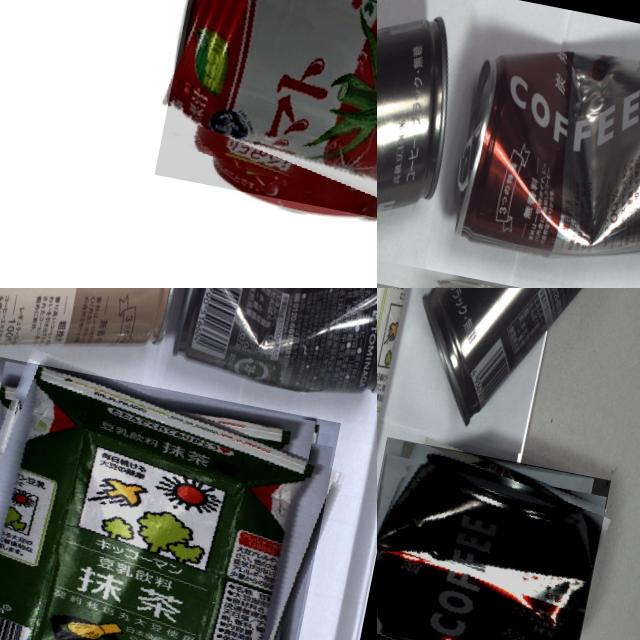Aluminium Foil: (0, 352, 340, 640), (377, 288, 449, 637)
Can: (154, 0, 377, 232), (377, 436, 610, 640), (445, 34, 640, 276), (402, 288, 640, 456), (377, 0, 470, 288), (169, 288, 377, 412), (0, 288, 200, 380)
